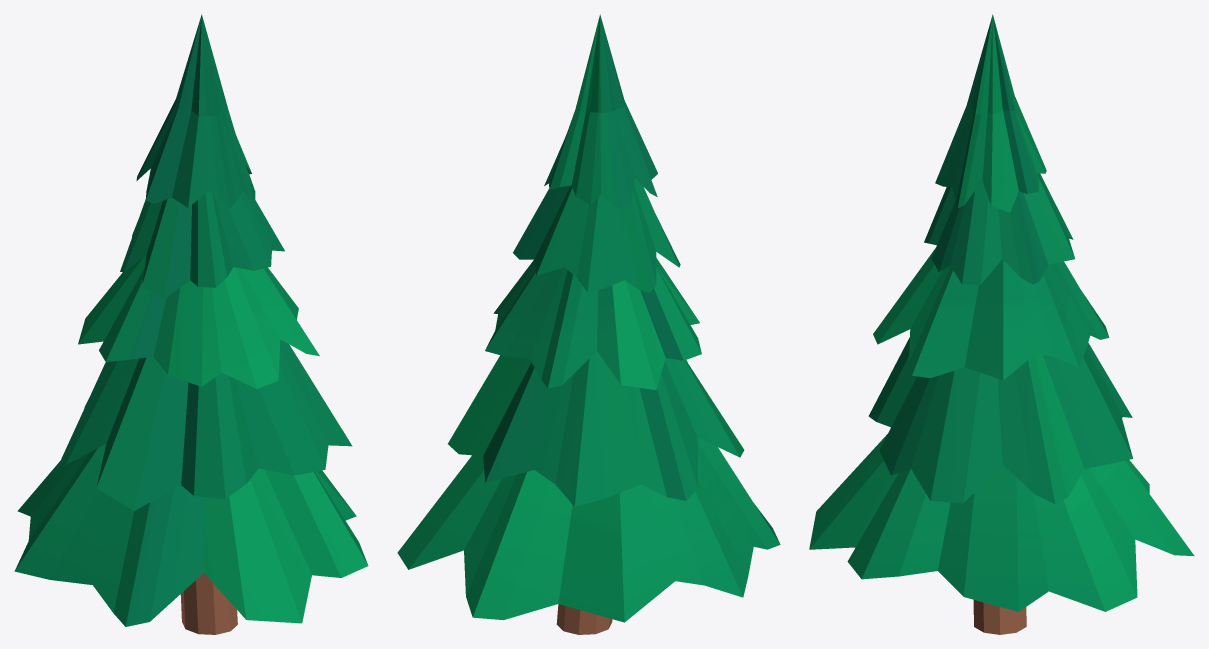
Rendered from Pinheiro.fbx.
3 renders of one model, left to right at view 1: azimuth 30°, elevation 25°; view 2: azimuth 150°, elevation 25°; view 3: azimuth 270°, elevation 25°, orthographic.
Parts seen in each view (by area): view 1: Pinheiro.002; view 2: Pinheiro.002; view 3: Pinheiro.002.
Part boxes in pixels (x1,y1,x2,y2): Pinheiro.002: [14, 14, 368, 634]; Pinheiro.002: [397, 14, 780, 634]; Pinheiro.002: [809, 14, 1194, 634].
Size of the model in its own units: 580 by 1066 by 617.
